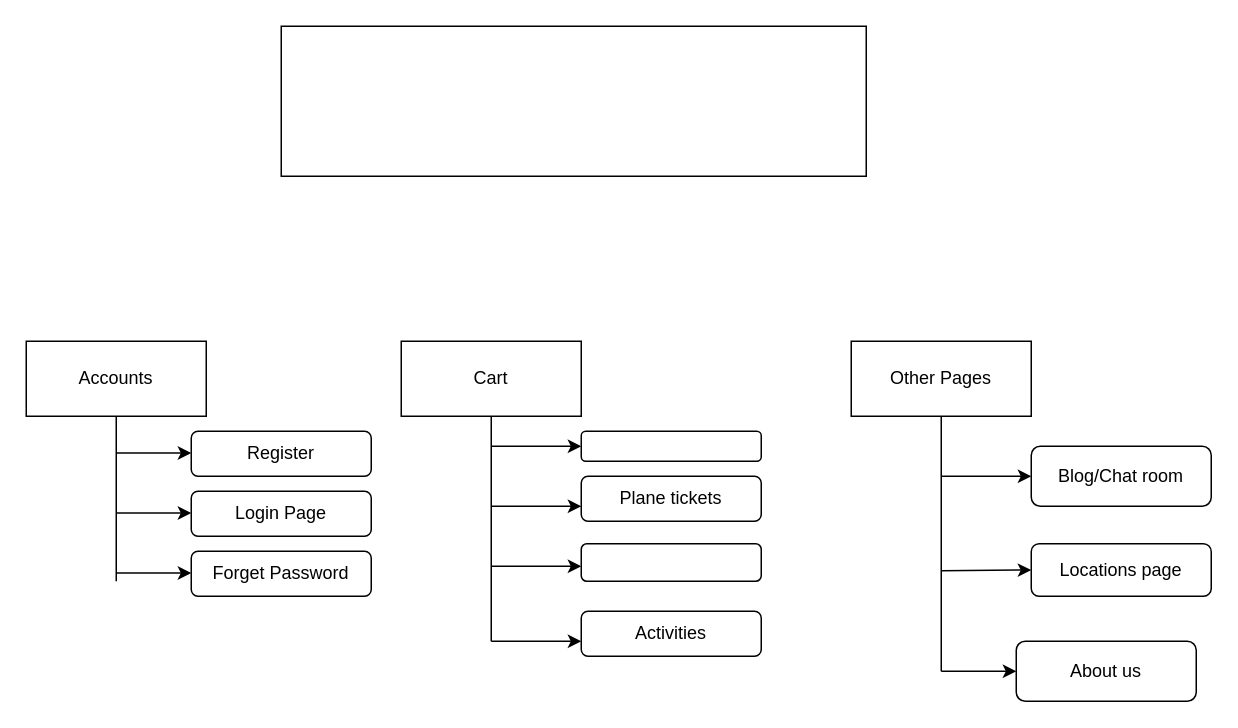
Image size: 1238x728. Some labels were removed from this diagram. Each missing label, with the box of its shape:
Car Rental: (580, 542, 761, 581)
Hotels: (580, 430, 761, 461)
Welcome Page: (280, 25, 866, 176)
